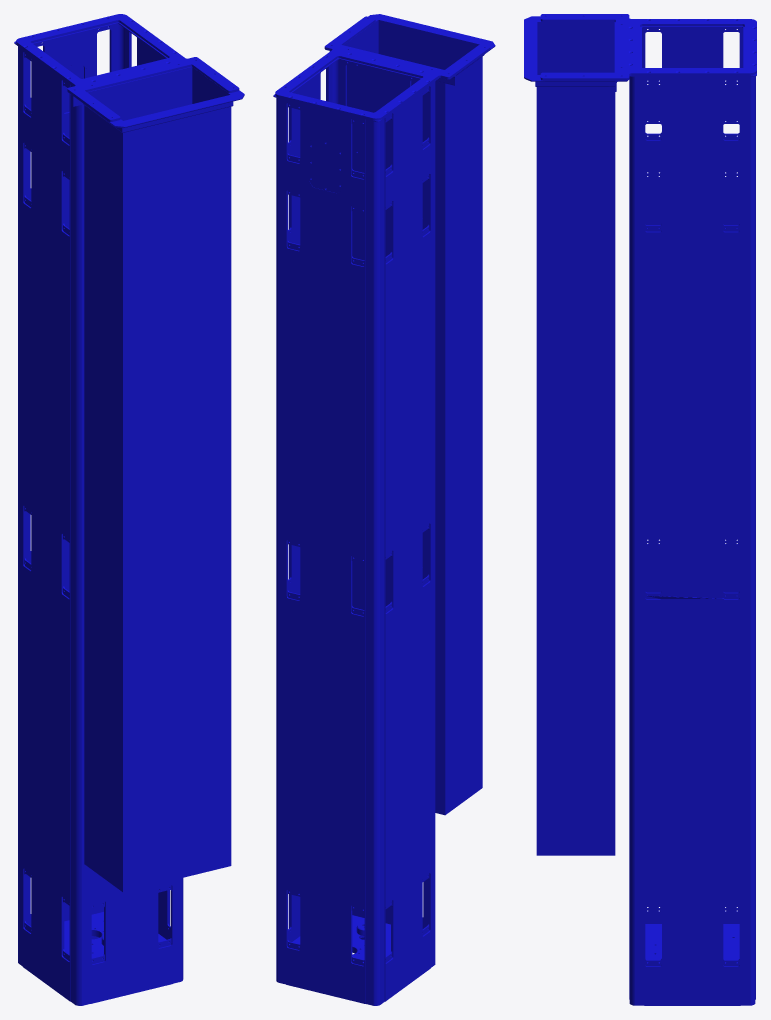
Rendered from z_axis2.dae.
3 renders of one model, left to right at view 1: azimuth 30°, elevation 25°; view 2: azimuth 150°, elevation 25°; view 3: azimuth 270°, elevation 25°, orthographic. The views are drawn at different scales.
Parts seen in each view (by area): view 1: Z AXIS-2; view 2: Z AXIS-2; view 3: Z AXIS-2.
Part boxes in pixels (left/top/right/bottom): Z AXIS-2: left=14, top=14, right=244, bottom=1005; Z AXIS-2: left=273, top=14, right=495, bottom=1005; Z AXIS-2: left=524, top=14, right=756, bottom=1005.
Bounding box in the file's own units: 0.06 × 0.0919 × 0.4064.
